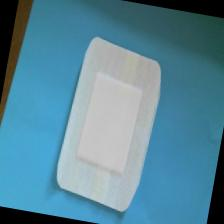Dressing: (50, 33, 170, 219)
